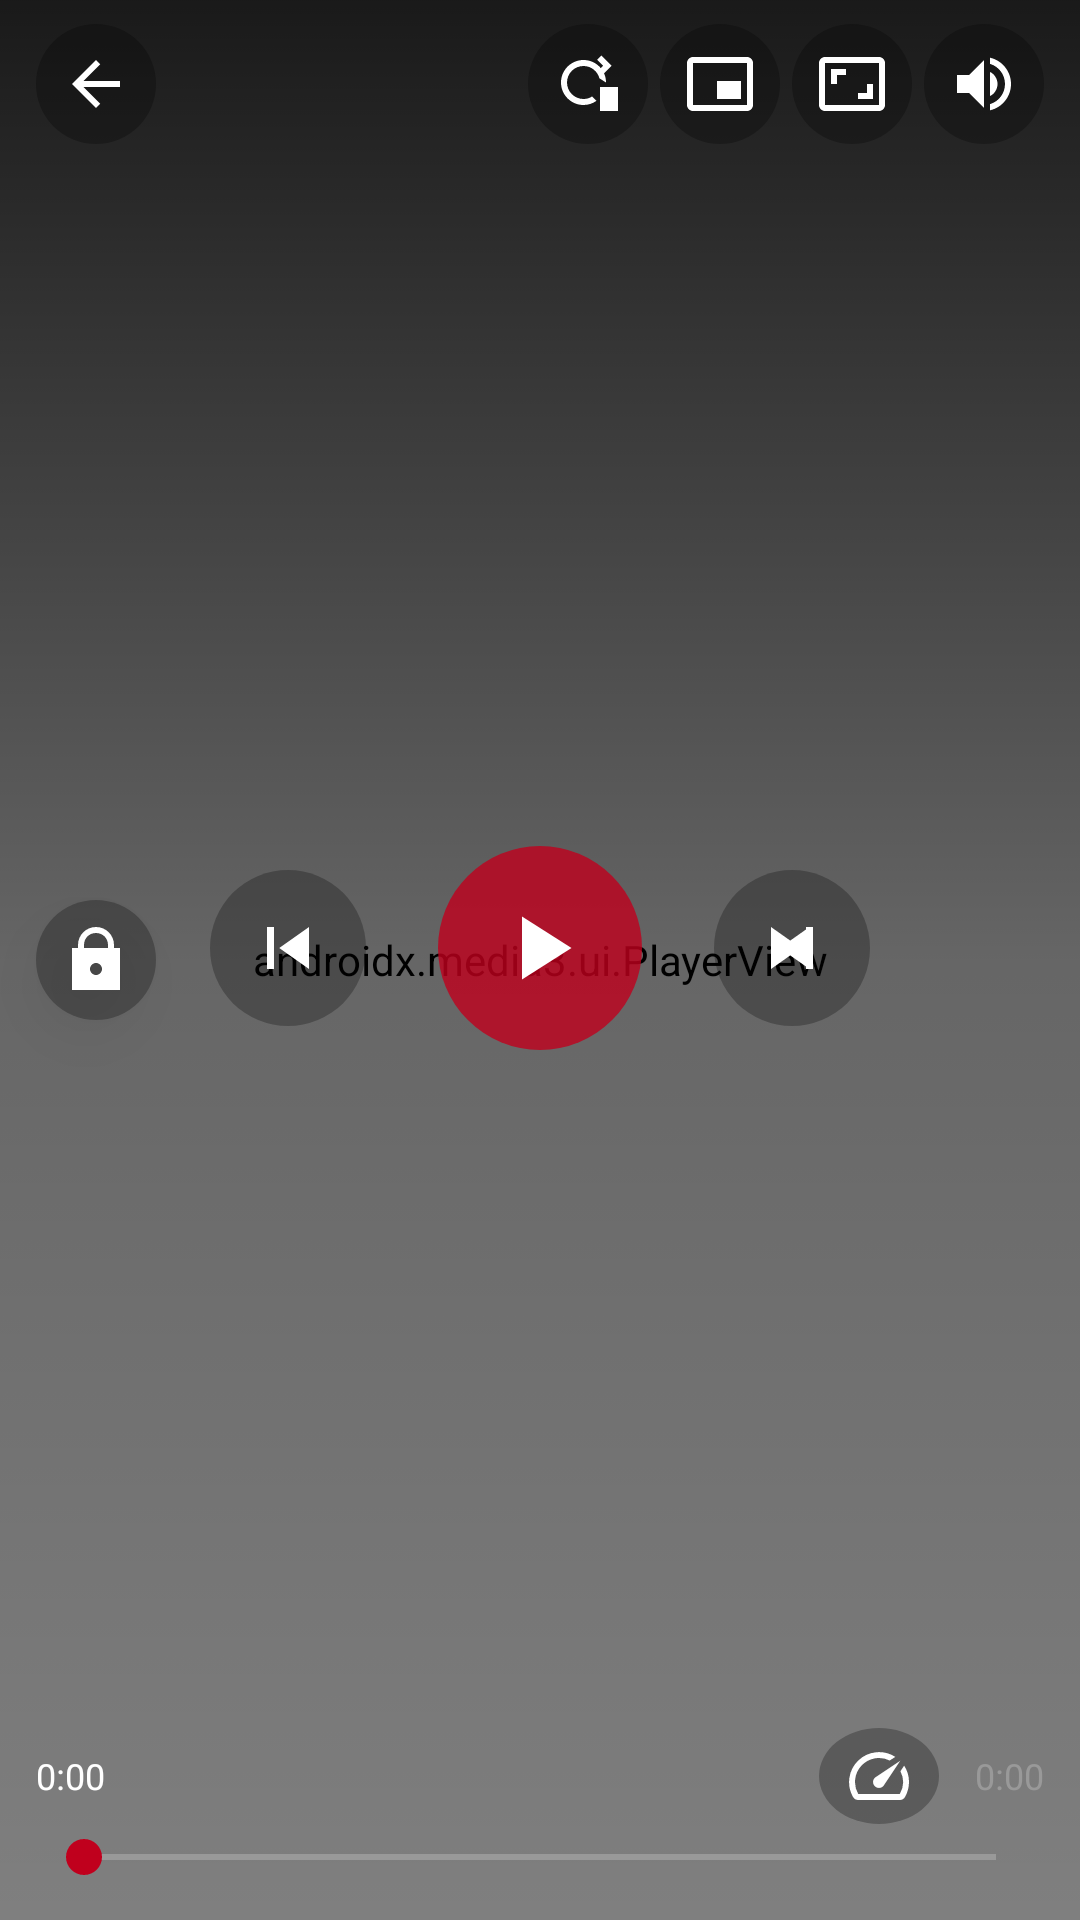

Where to tap for icons on this 1080px×1920px app screen, as point (x, y):
Aspect ratio: point (852, 84)
Audio track: point (984, 84)
Back: point (96, 84)
Lock screen: point (96, 960)
Picture in picture: point (720, 84)
Rotate screen: point (589, 83)
Speed: point (879, 1776)
